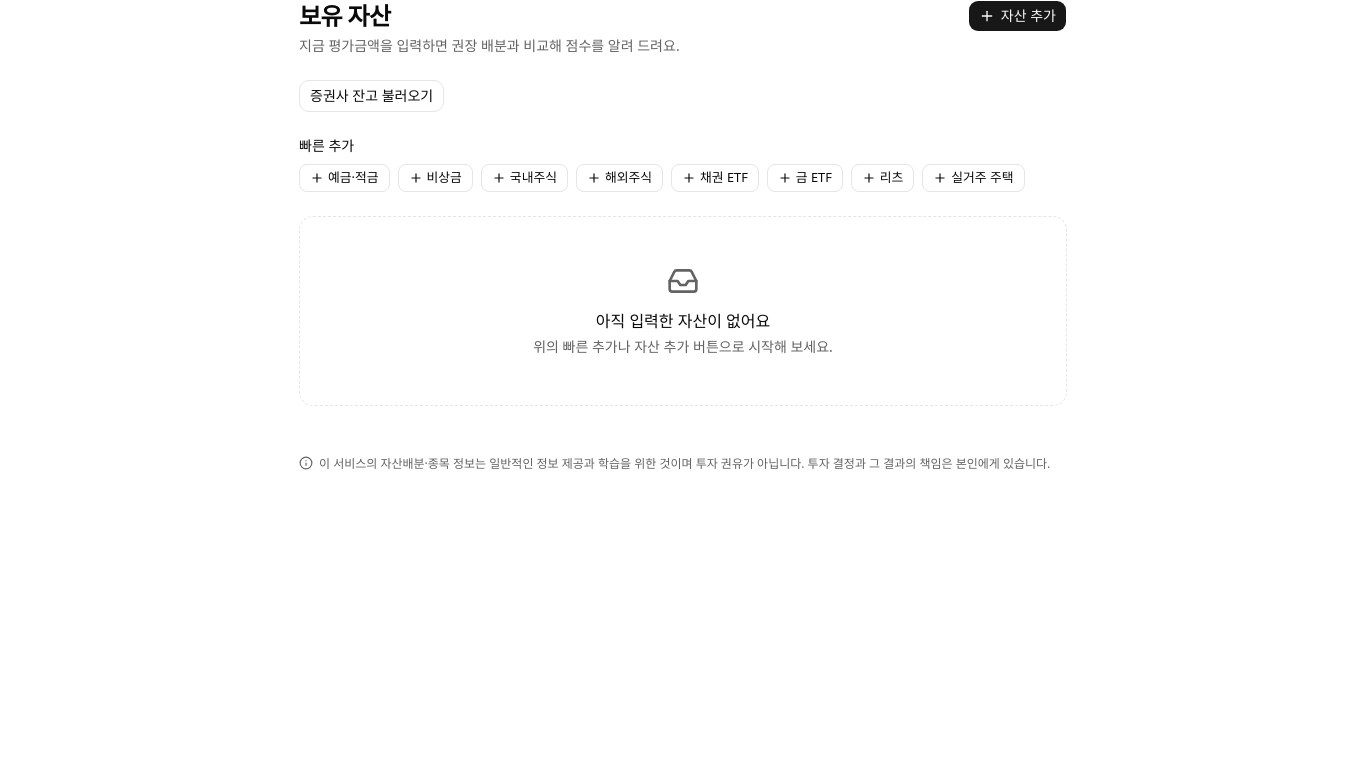
증권사 잔고 동기화 › 연결이 없으면 설정 링크와 비활성 실행 버튼을 보여 준다
This screenshot has width=1366, height=768.
What coordinates should you click on to do the following:
click the button "증권사 잔고 불러오기"
I would click on:
 (372, 96)
Its box is [299, 80, 444, 112].
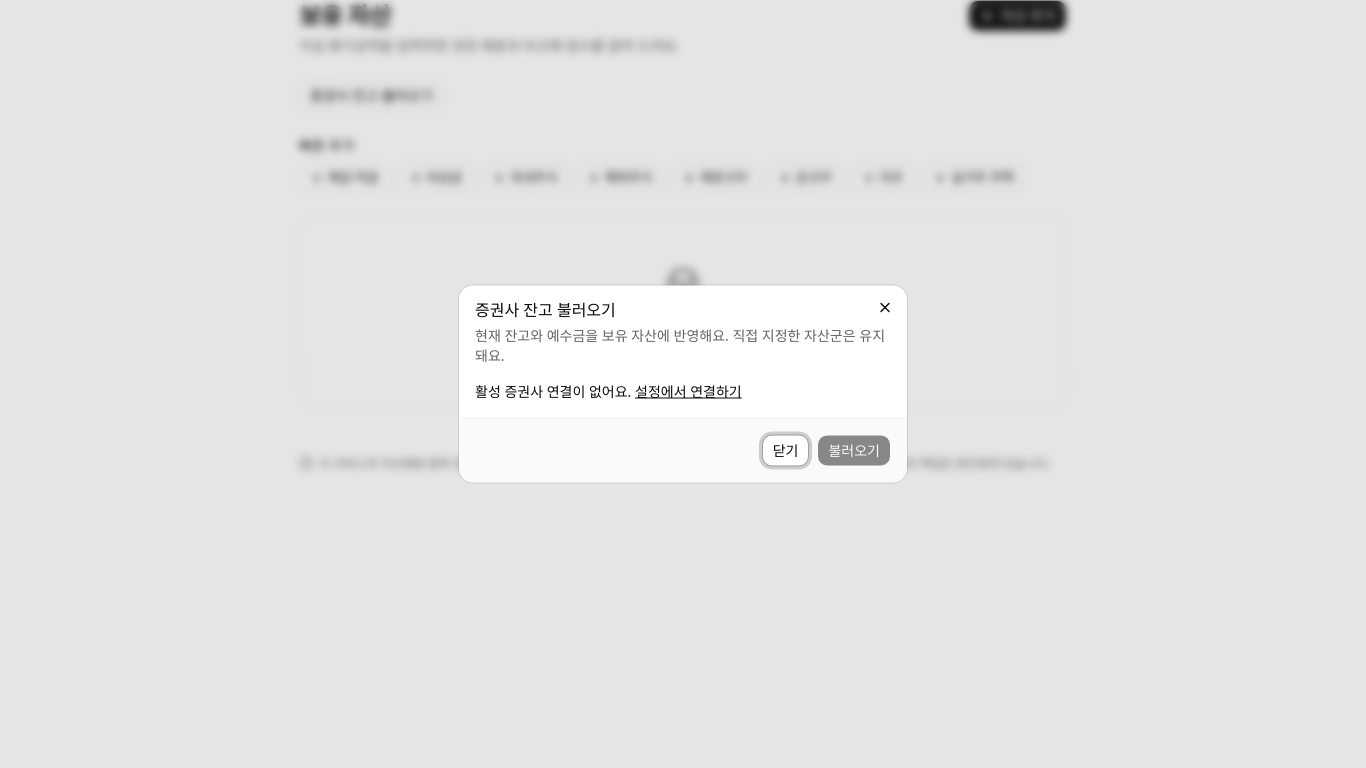
Now the button "불러오기" is disabled, box [818, 434, 891, 466]
